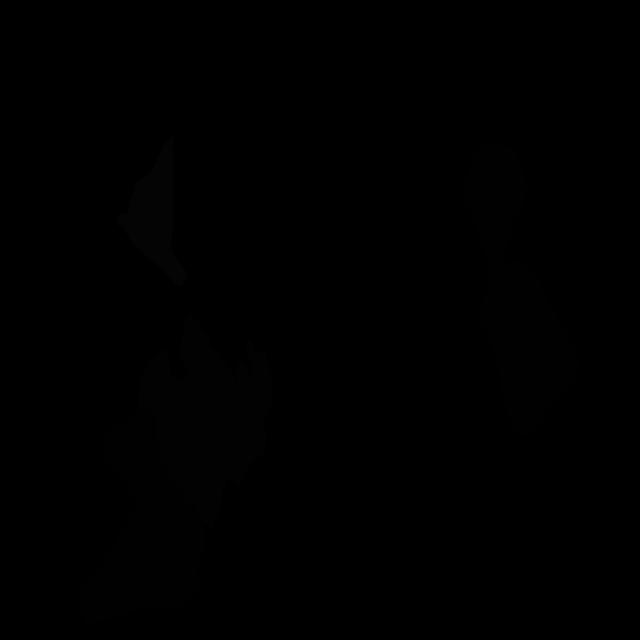cardboard: (138, 314, 273, 531)
rigid_plastic: (79, 409, 206, 629), (480, 260, 580, 436), (461, 142, 526, 287)
soft_plastic: (117, 135, 186, 286)
